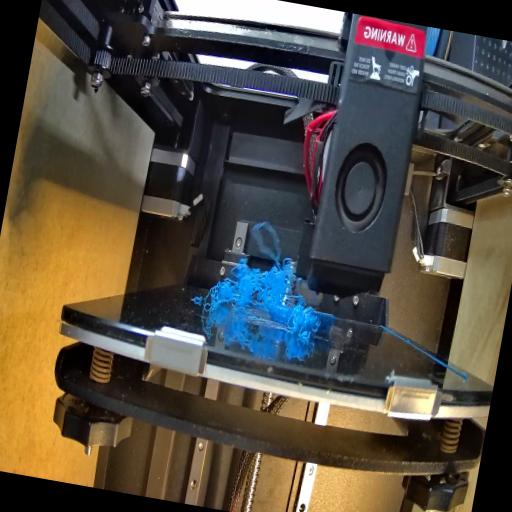spaghetti: (201, 257, 294, 321), (280, 300, 324, 349)
